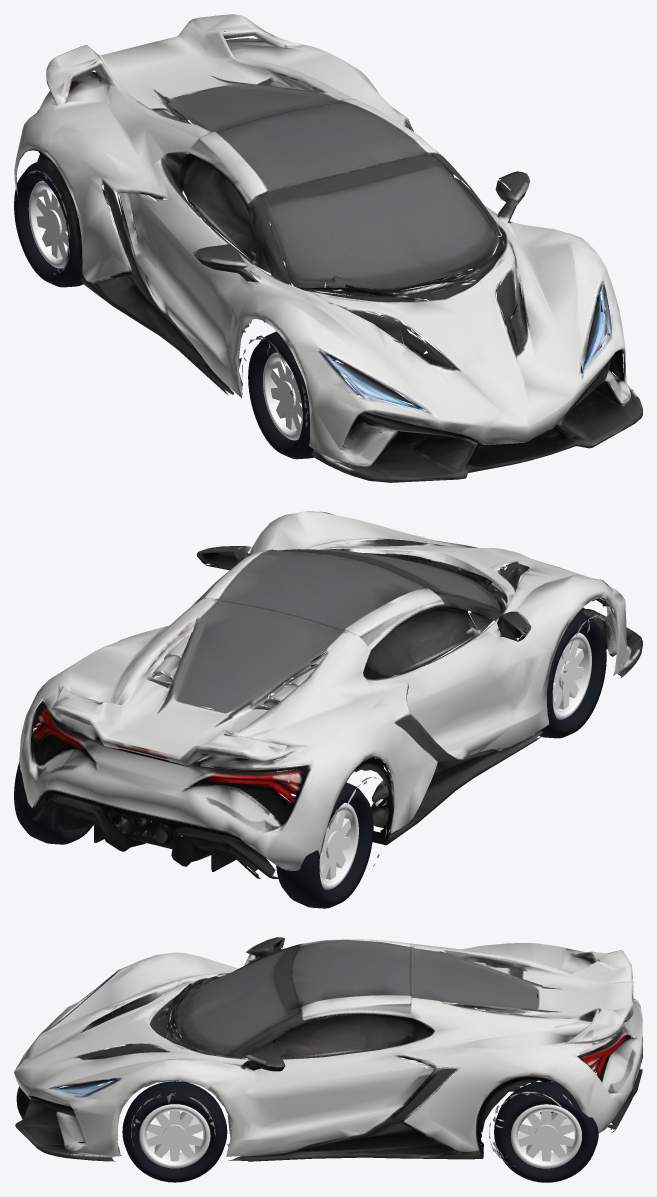
File: original-racer.glb
3 views of the same model, one above another, from view 1: azimuth 30°, elevation 25°; view 2: azimuth 150°, elevation 25°; view 3: azimuth 270°, elevation 25° (orthographic). The views are drawn at different scales.
Parts seen in each view (by area): view 1: Chassis, Wheel_RL, Wheel_FL; view 2: Chassis, Wheel_RL, Wheel_FL, Wheel_RR; view 3: Chassis, Wheel_FR, Wheel_RR.
Part boxes in pixels (x1,y1,x2,y2): Chassis: (14,14,642,482); Wheel_RL: (14,158,82,287); Wheel_FL: (248,331,339,459); Chassis: (19,511,642,878); Wheel_RL: (276,782,373,908); Wheel_FL: (535,612,606,738); Wheel_RR: (14,727,92,844); Chassis: (14,937,642,1166); Wheel_FR: (122,1081,227,1182); Wheel_RR: (494,1081,598,1182).
Bounding box in the file's own units: 2.32 × 1.37 × 4.8.
7 materials, 5 textured.
